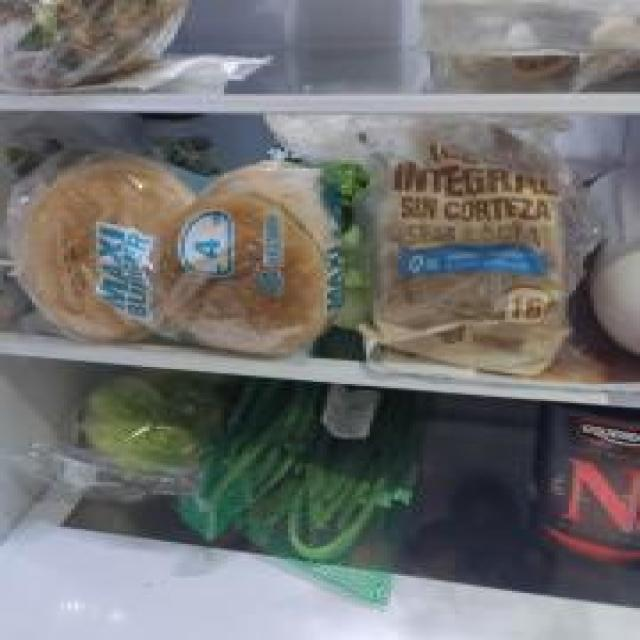bread: (370, 127, 569, 376)
green_beans: (180, 372, 428, 609)
milk: (579, 164, 640, 358)
pineapple: (0, 0, 192, 92)
salad: (78, 368, 228, 494)
